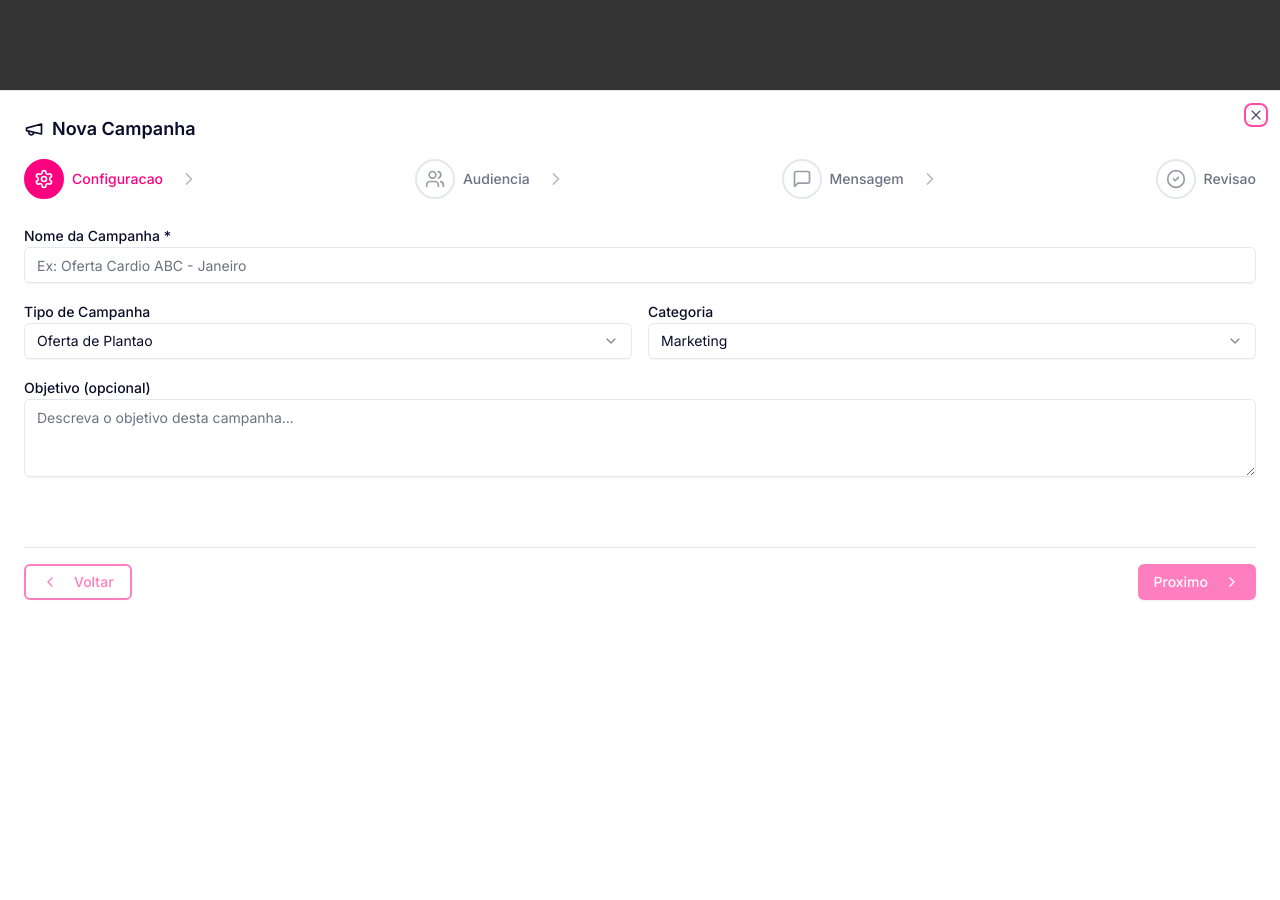
Test case: NovaCampanhaWizard › volta para etapa anterior ao clicar Voltar
Note: Avancar para etapa 2
Type "Minha Campanha" into the field with placeholder "Ex: Oferta Cardio ABC - Janeiro" at coordinates (640, 265), box [24,247,1256,283]
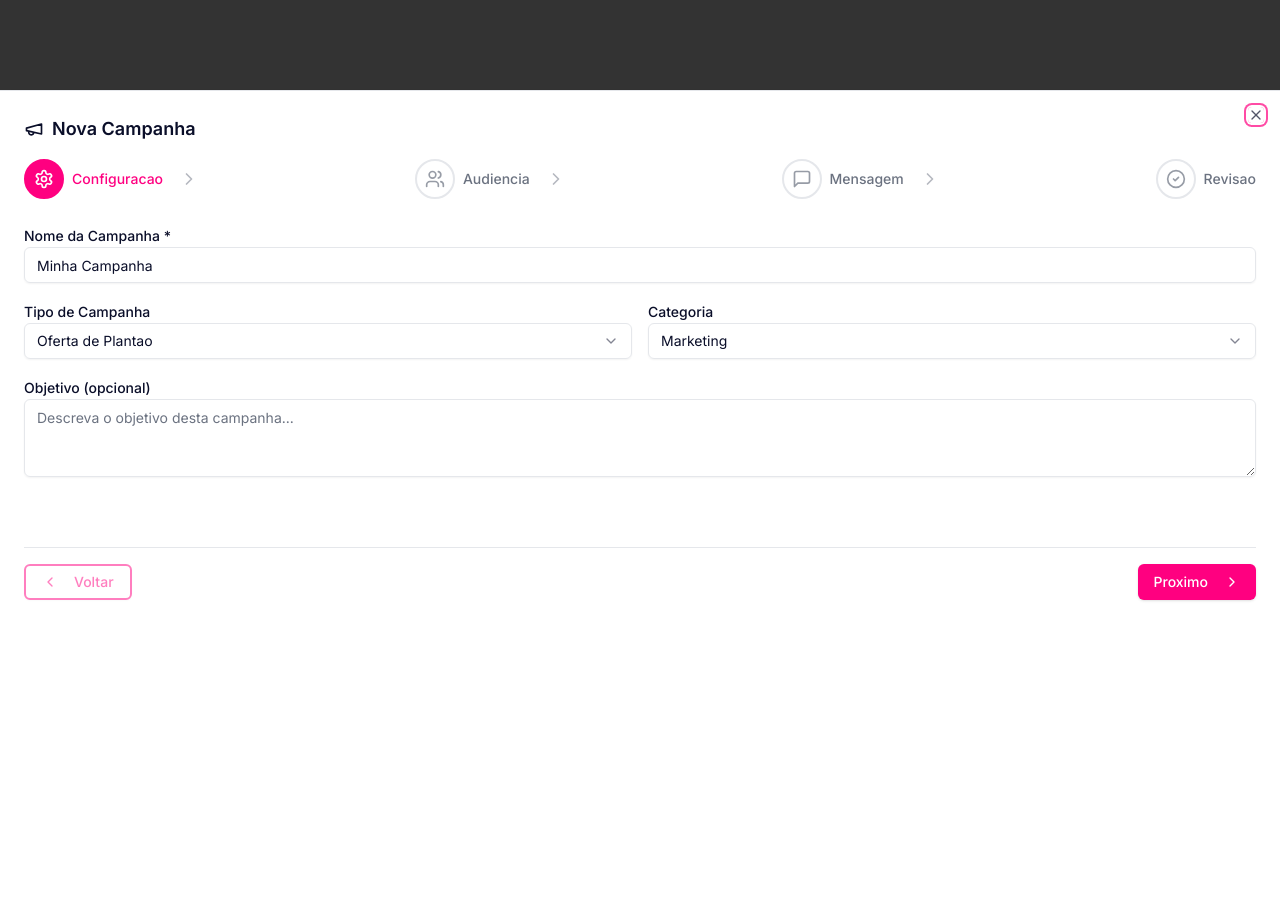
Click the button "Proximo" at coordinates (1197, 582), box [1138,564,1256,600]
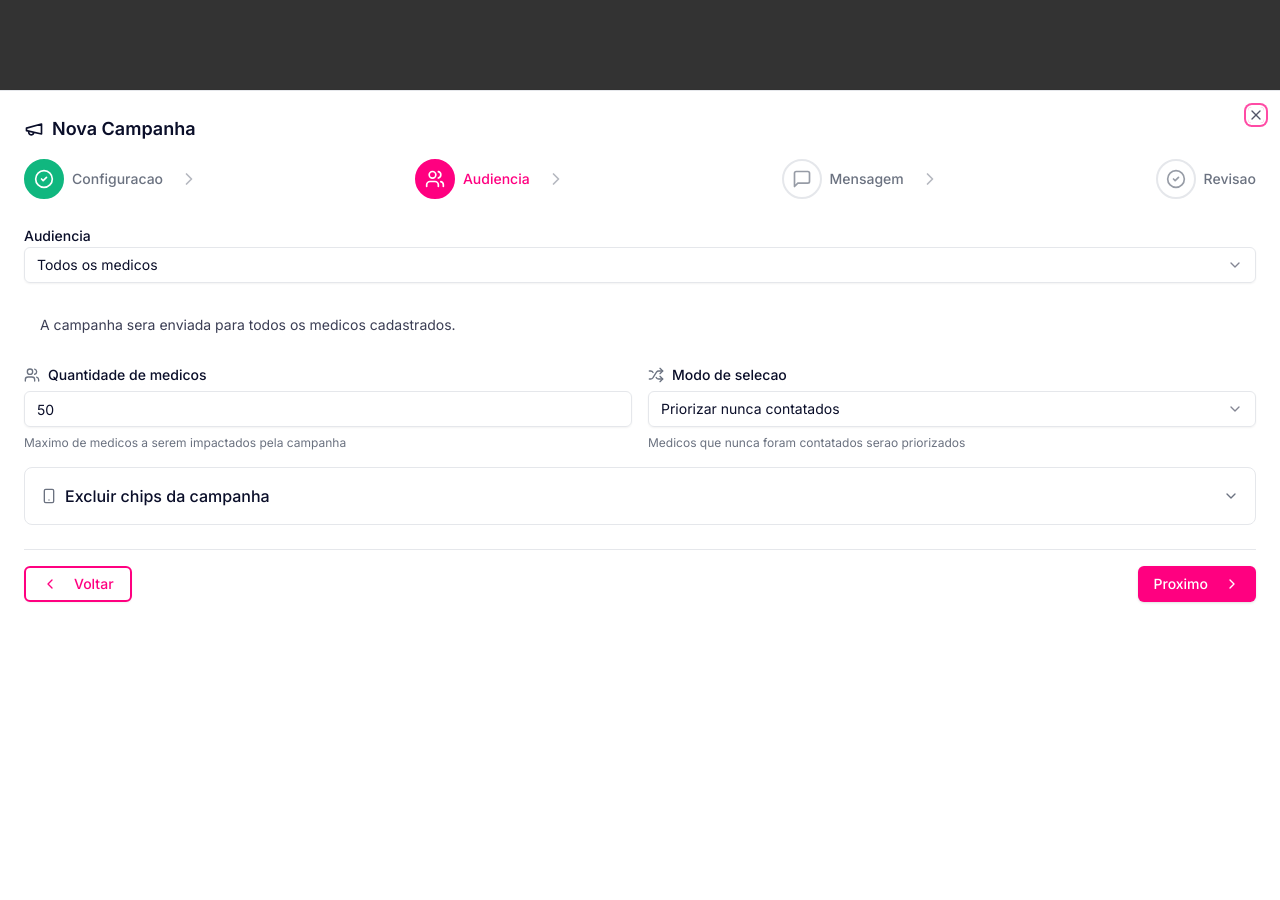
Expected: the text "Todos os medicos" is shown, [37,255,158,275]
Click the button "Voltar" at coordinates (78, 584), box [24,566,132,602]
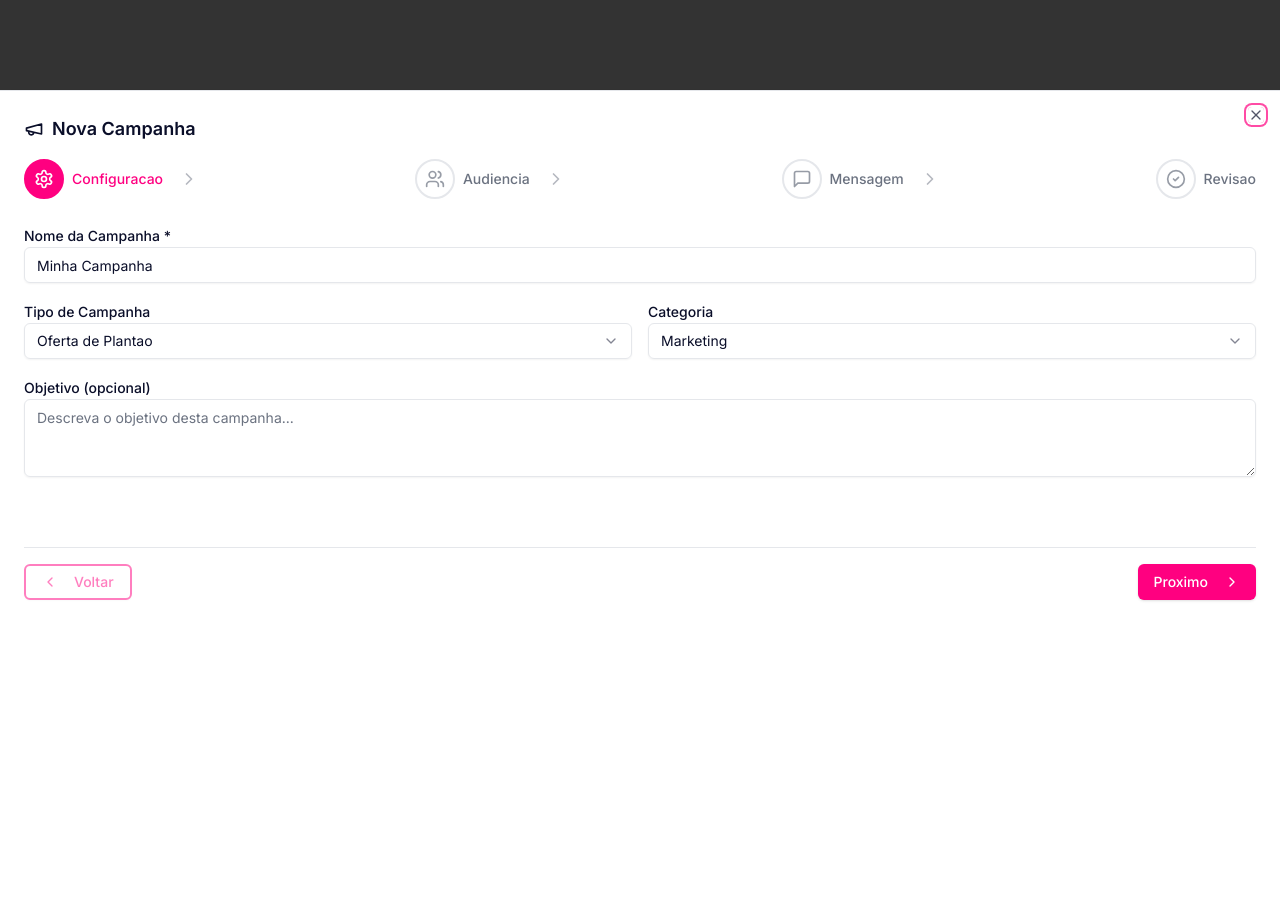
Expected: the text "Nome da Campanha *" is shown, [24,227,171,244]
